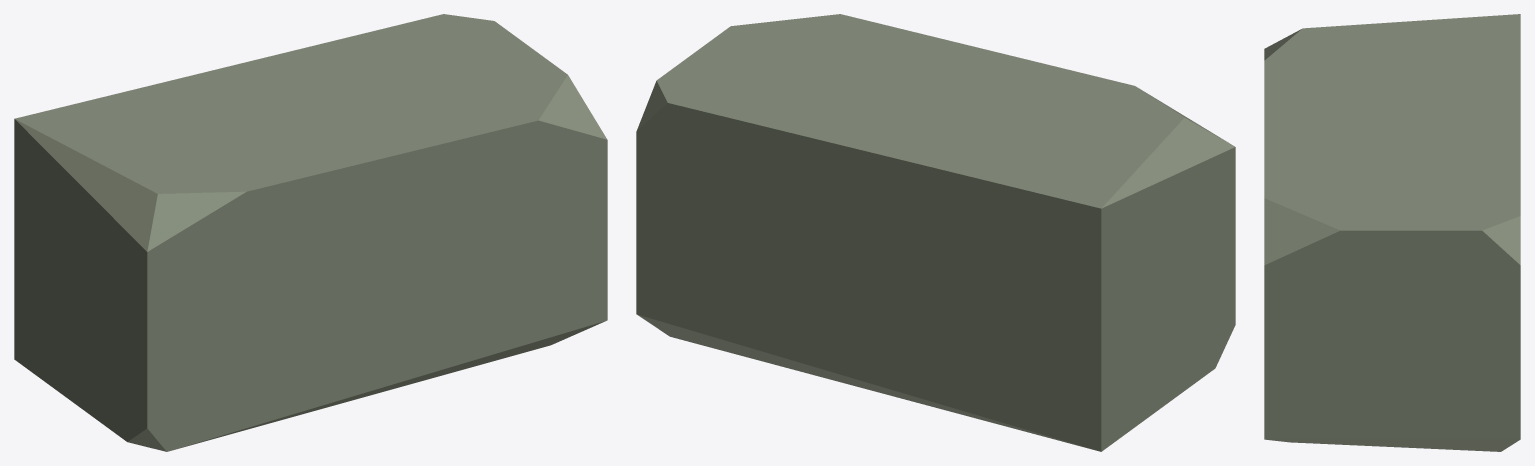
Rendered from railing_low.fbx.
3 views of the same model, side by side, from view 1: azimuth 30°, elevation 25°; view 2: azimuth 150°, elevation 25°; view 3: azimuth 270°, elevation 25° (orthographic). The views are drawn at different scales.
Visible parts, largest first — view 1: railing_low; view 2: railing_low; view 3: railing_low.
Boxes of the visible parts, left/top/right/bottom form: railing_low: left=14, top=14, right=607, bottom=451; railing_low: left=636, top=14, right=1235, bottom=451; railing_low: left=1264, top=14, right=1520, bottom=451.
Bounding box in the file's own units: 100 × 50 × 50.
